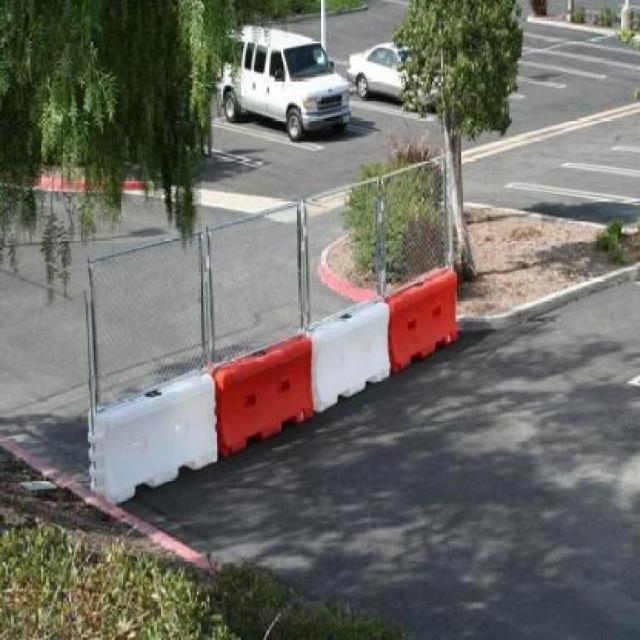fallen_object: (175, 319, 326, 458), (317, 245, 469, 381), (89, 353, 226, 489)
